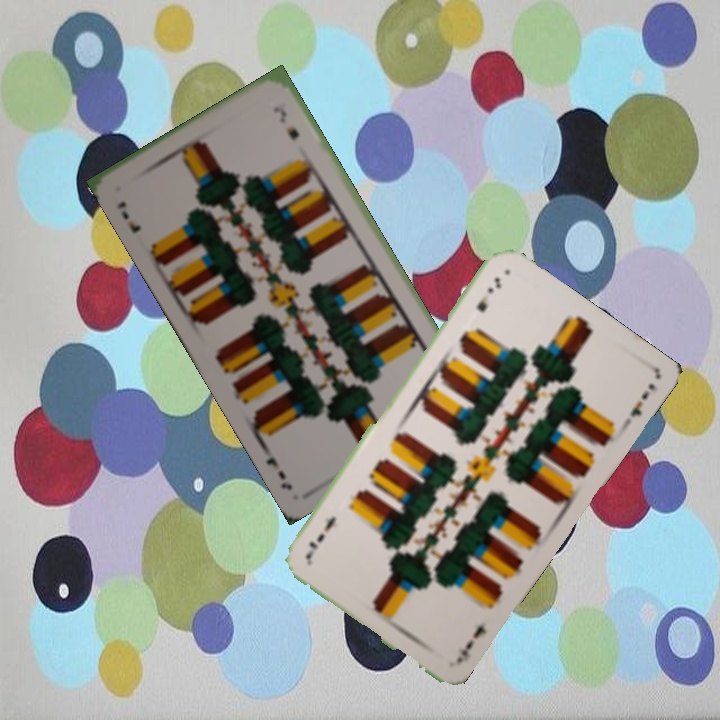E7: (452, 620, 490, 666), (472, 273, 505, 315), (113, 197, 144, 236)
